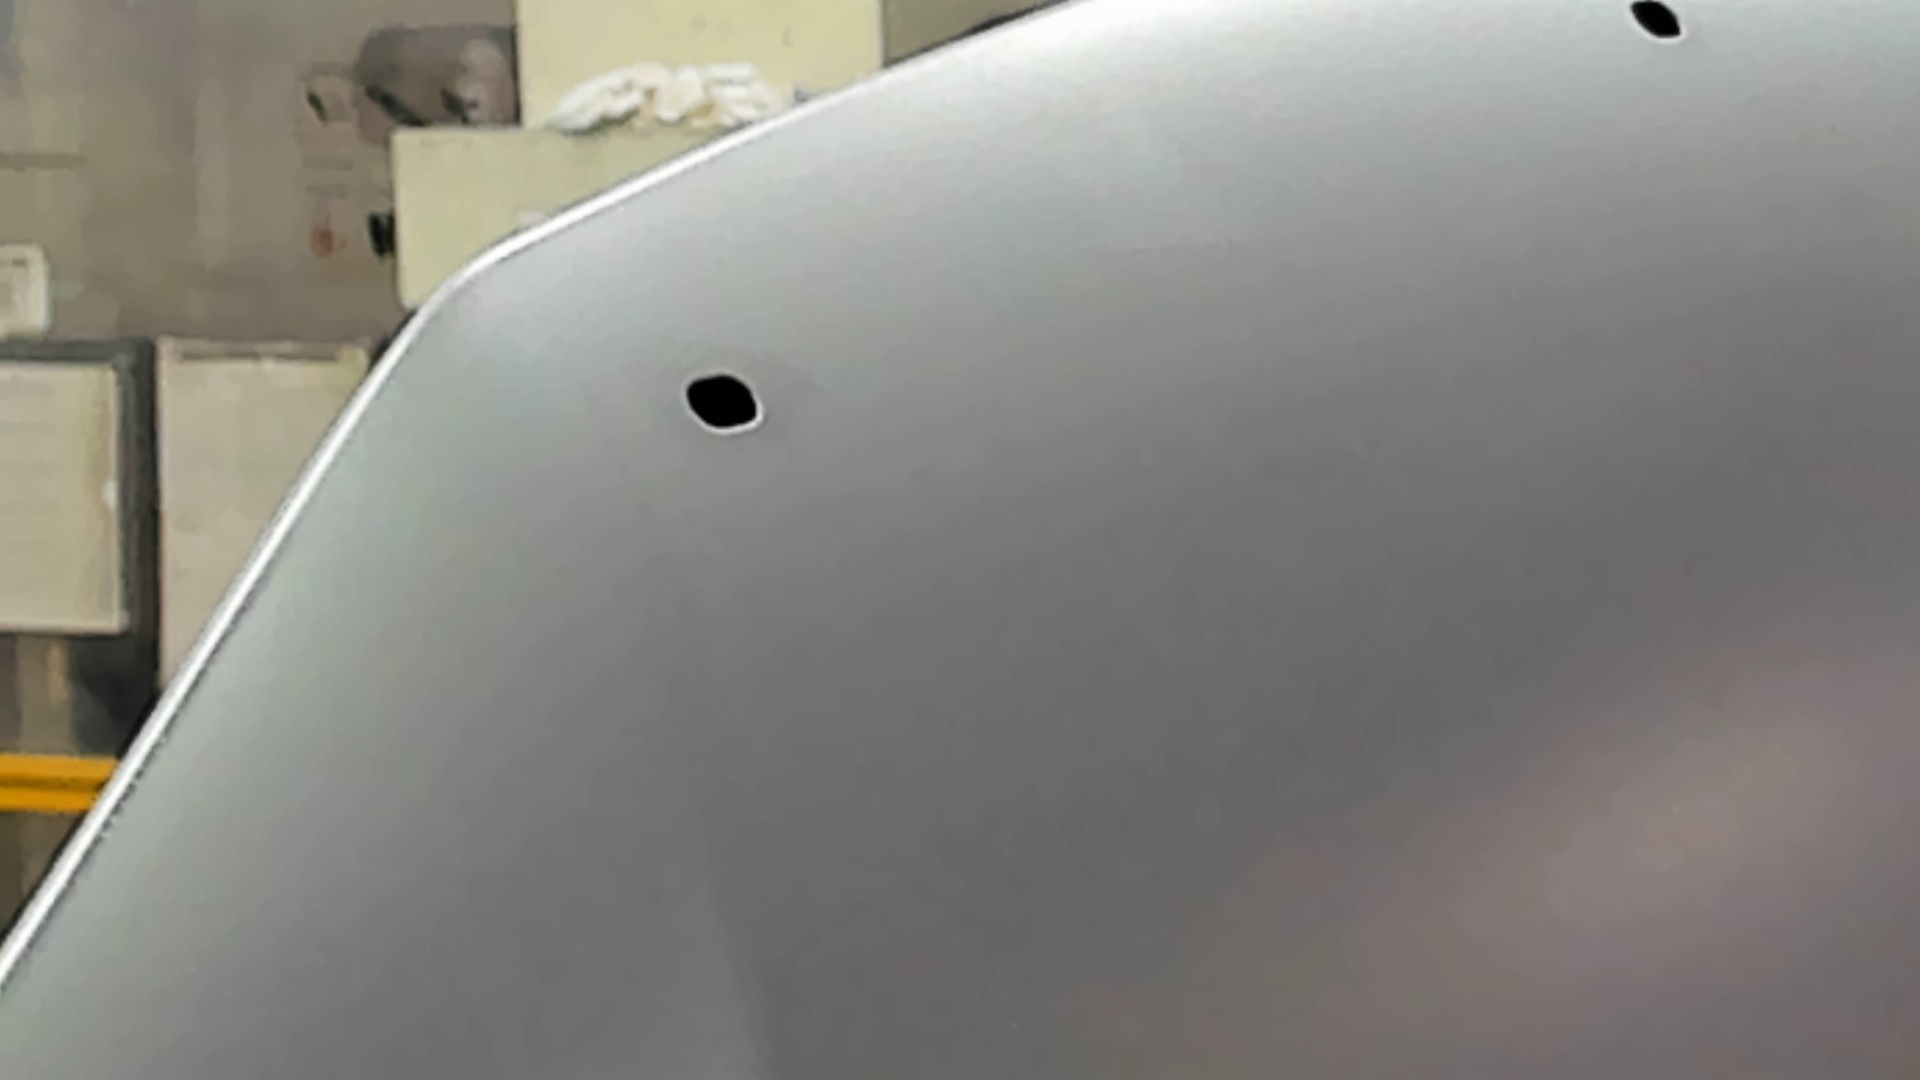amorfo: (673, 371, 775, 440), (1615, 1, 1701, 53)
capo: (918, 102, 1920, 1080)
